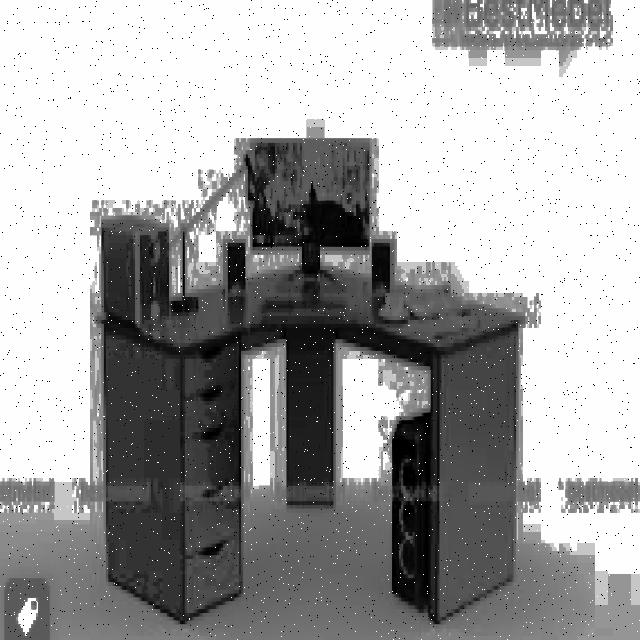table: (95, 258, 525, 625)
